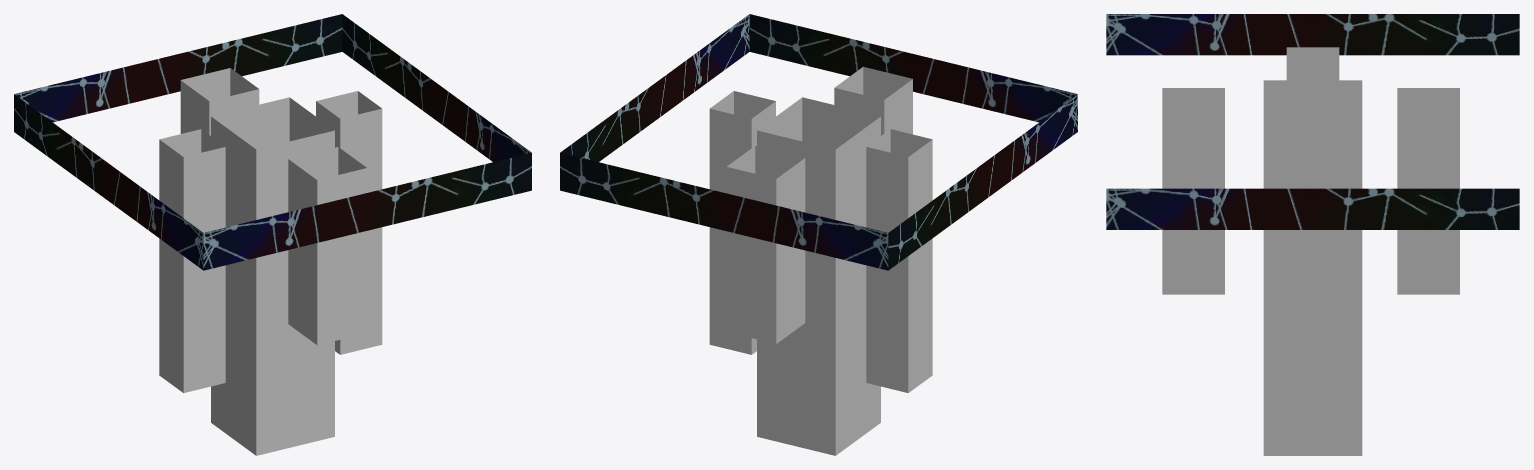
File: Lamp_015.fbx
3 views of the same model, side by side, from view 1: azimuth 30°, elevation 25°; view 2: azimuth 150°, elevation 25°; view 3: azimuth 270°, elevation 25° (orthographic). The views are drawn at different scales.
Parts seen in each view (by area): view 1: Hall.152; view 2: Hall.152; view 3: Hall.152.
Boxes of the visible parts, x1,y1,x2,y2 form: Hall.152: (14,14,531,455); Hall.152: (560,14,1077,455); Hall.152: (1106,14,1519,455).
Size of the model in its own units: 198 by 176 by 198.
